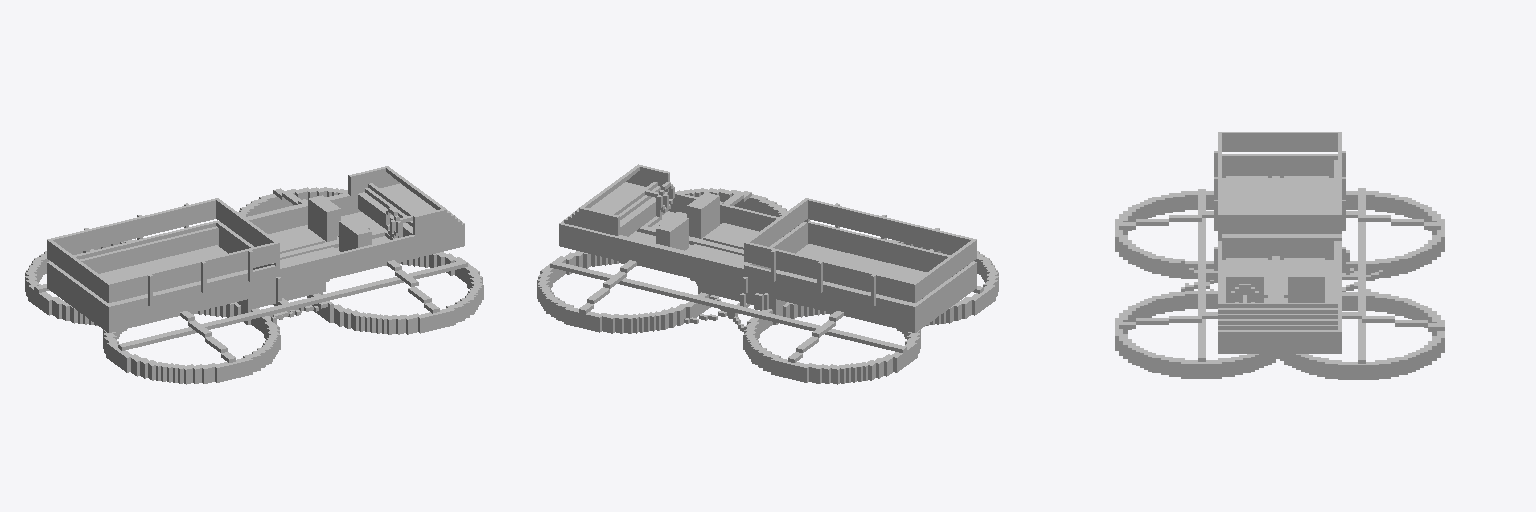
File: Good Car.obj
3 renders of one model, left to right at view 1: azimuth 30°, elevation 25°; view 2: azimuth 150°, elevation 25°; view 3: azimuth 270°, elevation 25°, orthographic.
Visible parts, largest first — view 1: object 1; view 2: object 1; view 3: object 1.
Boxes of the visible parts, x1,y1,x2,y2 form: object 1: [25, 166, 483, 384]; object 1: [537, 164, 998, 384]; object 1: [1115, 132, 1444, 379].
Size of the model in its own units: 10 by 2 by 8.